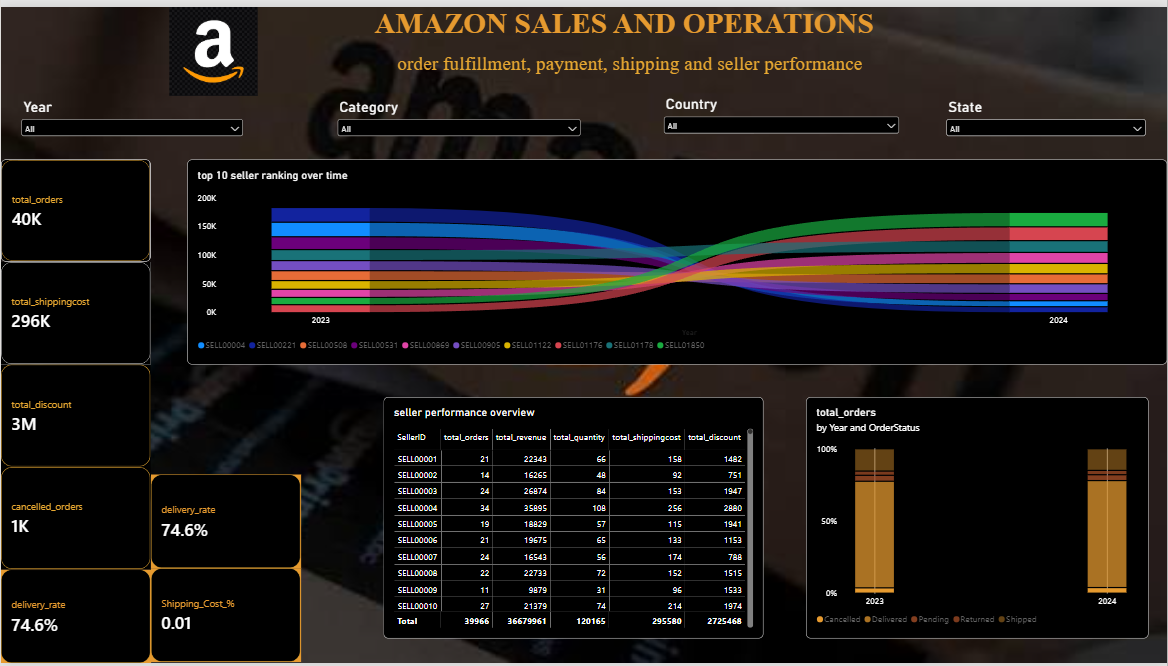

The dashboard page shown, as its layout file describes it:
{"tool":"powerbi","page":{"name":"sales and operations","canvas":[1920,1080],"ordinal":3},"visuals":[{"type":"textbox","box":[275.8,0,1500.5,98.8],"z":0},{"type":"textbox","box":[652.5,74.1,1027.1,72],"z":1000},{"type":"image","box":[181.1,0,337.6,146.1],"z":2000},{"type":"cardVisual","title":"total revenue","fields":{"Data":["factorders.delivery_rate"]},"box":[0,925.6,247,154.4],"z":3000},{"type":"cardVisual","fields":{"Data":["factorders.cancelled_orders"]},"box":[0,757.5,246,168.8],"z":4000},{"type":"cardVisual","fields":{"Data":["factorders.total_shippingcost"]},"box":[0,419.9,246,168.8],"z":5000},{"type":"cardVisual","fields":{"Data":["factorders.total_discount"]},"box":[0,588.7,246,168.8],"z":6000},{"type":"cardVisual","fields":{"Data":["factorders.total_orders"]},"box":[0,251.1,246,168],"z":7000},{"type":"slicer","title":"year","fields":{"Values":["DimDate.Year"]},"box":[28.8,150.3,374.6,105],"z":8000},{"type":"slicer","fields":{"Values":["dimproduct.Category"]},"box":[549.6,150.3,409.6,86.4],"z":9000},{"type":"slicer","fields":{"Values":["dimcustomer.State"]},"box":[1552,150.3,337.6,94.7],"z":10000},{"type":"slicer","fields":{"Values":["dimcustomer.Country"]},"box":[1086.8,146.1,397.3,125.6],"z":11000},{"type":"ribbonChart","title":"top 10 seller ranking over time","fields":{"Category":["DimDate.Year"],"Y":["factorders.total_revenue"],"Series":["factorders.SellerID"]},"box":[306.7,251.1,1613.7,337.6],"z":12000},{"type":"hundredPercentStackedColumnChart","fields":{"Category":["DimDate.Year"],"Y":["factorders.total_orders"],"Series":["factorders.OrderStatus"]},"box":[1325.6,642.2,564,397.3],"z":13000},{"type":"cardVisual","title":"total revenue","fields":{"Data":["factorders.delivery_rate"]},"box":[247,769.8,247,154.4],"z":14000},{"type":"cardVisual","title":"total revenue","fields":{"Data":["factorders.Shipping_Cost_%"]},"box":[247,924.2,247,154.4],"z":15000},{"type":"tableEx","title":"seller performance overview","fields":{"Values":["factorders.SellerID","factorders.total_orders","factorders.total_revenue","factorders.total_quantity","factorders.total_shippingcost","factorders.total_discount"]},"box":[629.8,642.2,625.7,397.3],"z":16000}]}

Visuals, with their boxes in screenshot pixels (x1, y1, x2, y2), scaled from the page's 1920x1080 canvas onto the 1168x666 screenshot:
textbox: region(168, 0, 1081, 61)
textbox: region(397, 46, 1022, 90)
image: region(110, 0, 316, 90)
"total revenue" cardVisual: region(0, 571, 150, 665)
cardVisual - factorders.cancelled_orders: region(0, 467, 150, 571)
cardVisual - factorders.total_shippingcost: region(0, 259, 150, 363)
cardVisual - factorders.total_discount: region(0, 363, 150, 467)
cardVisual - factorders.total_orders: region(0, 155, 150, 258)
"year" slicer: region(18, 93, 245, 157)
slicer - dimproduct.Category: region(334, 93, 584, 146)
slicer - dimcustomer.State: region(944, 93, 1150, 151)
slicer - dimcustomer.Country: region(661, 90, 903, 168)
"top 10 seller ranking over time" ribbonChart: region(187, 155, 1167, 363)
hundredPercentStackedColumnChart - DimDate.Year x factorders.total_orders: region(806, 396, 1150, 641)
"total revenue" cardVisual: region(150, 475, 301, 570)
"total revenue" cardVisual: region(150, 570, 301, 665)
"seller performance overview" tableEx: region(383, 396, 764, 641)
